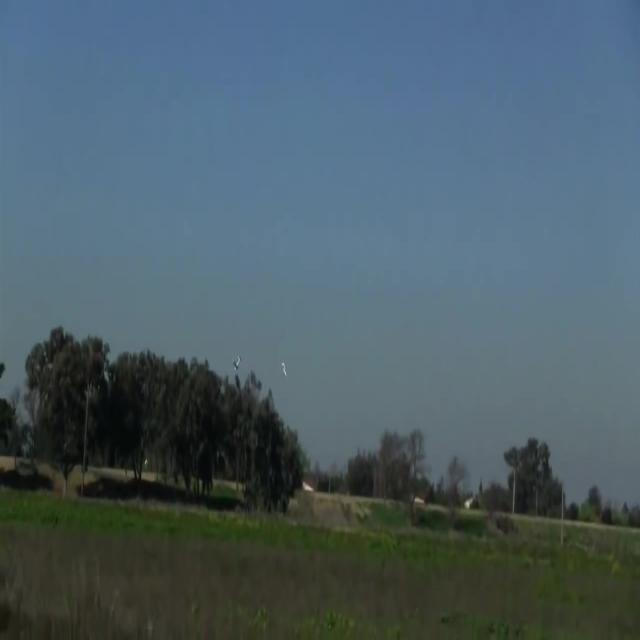iha: (235, 355, 239, 372), (284, 362, 284, 379)
